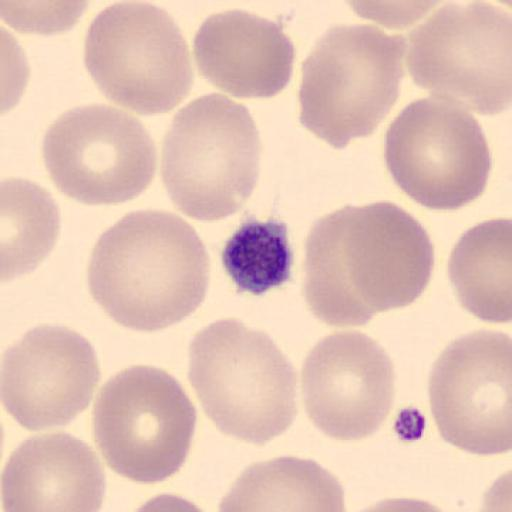Platelet: (218, 216, 296, 298)
RBC: (85, 206, 212, 334), (187, 316, 298, 446), (297, 20, 406, 150), (159, 90, 263, 226), (382, 91, 493, 214), (90, 362, 198, 486), (82, 0, 194, 117), (40, 101, 158, 208), (405, 0, 512, 117), (425, 327, 512, 459), (297, 329, 397, 443), (2, 323, 102, 432), (342, 198, 436, 313), (300, 204, 381, 328), (192, 6, 296, 101), (1, 430, 107, 512), (217, 453, 350, 512), (446, 215, 512, 325), (2, 176, 62, 282), (339, 0, 489, 42), (339, 0, 463, 31), (2, 0, 95, 38), (2, 23, 32, 117), (342, 493, 469, 512), (119, 491, 218, 512), (475, 467, 512, 512)
